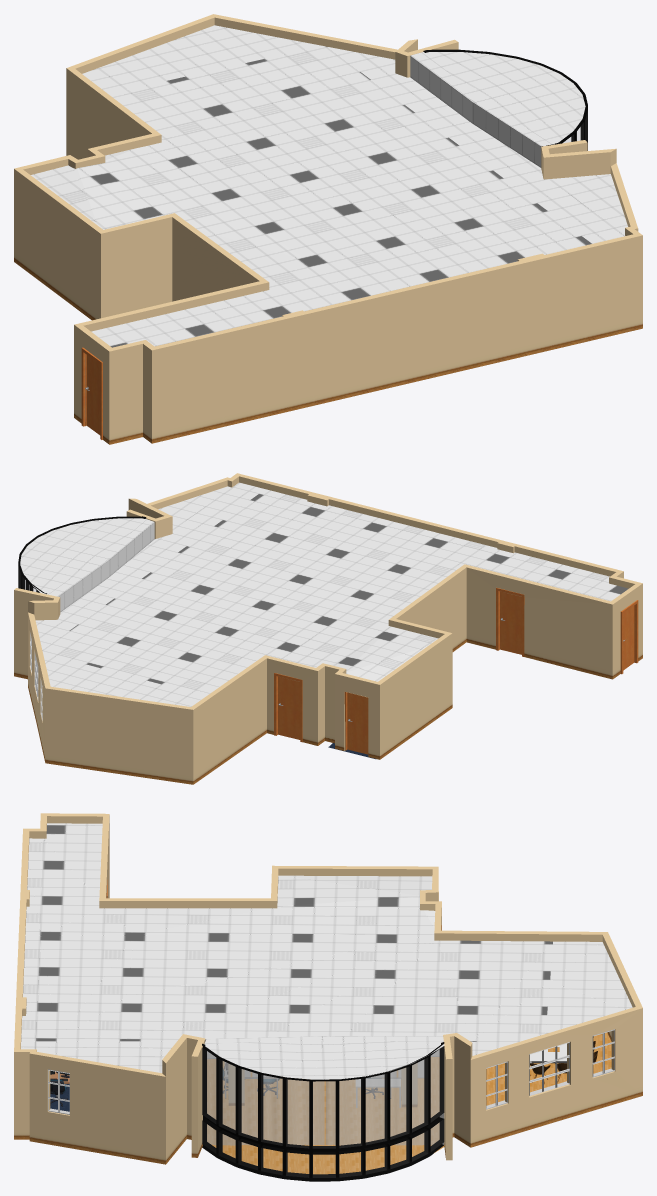
Rendered from int_mersus.glb.
3 renders of one model, top to bottom at view 1: azimuth 30°, elevation 25°; view 2: azimuth 150°, elevation 25°; view 3: azimuth 270°, elevation 25°, orthographic. The views are drawn at different scales.
Parts seen in each view (by area): view 1: Pillar.001_Walls_0, Floor.003_ceilingtiles_0, Floor.003_ceilingtiles_plain_0, Doors_Door_Solid_0, RoundWindowMetal.001_Metal_Black_0; view 2: Floor.003_ceilingtiles_0, Pillar.001_Walls_0, Floor.003_ceilingtiles_plain_0, Doors_Door_Solid_0, RoundWindowMetal.001_Metal_Black_0; view 3: Floor.003_ceilingtiles_0, Pillar.001_Walls_0, Floor.003_ceilingtiles_plain_0, Floor.002_woodFloor_0, curtain_low.001_Curtain_0, RoundWindowMetal.001_Metal_Black_0, Windows.001_SmallWindow_0.
Part boxes in pixels (x1,y1,x2,y2): Pillar.001_Walls_0: (14,14,642,444); Floor.003_ceilingtiles_0: (31,46,591,347); Floor.003_ceilingtiles_plain_0: (82,25,627,243); Doors_Door_Solid_0: (81,347,102,439); RoundWindowMetal.001_Metal_Black_0: (423,49,587,150); Floor.003_ceilingtiles_0: (42,489,628,696); Pillar.001_Walls_0: (14,473,642,784); Floor.003_ceilingtiles_plain_0: (20,482,264,706); Doors_Door_Solid_0: (274,587,638,754); RoundWindowMetal.001_Metal_Black_0: (18,516,146,593); Floor.003_ceilingtiles_0: (21,823,552,1042); Pillar.001_Walls_0: (14,813,642,1164); Floor.003_ceilingtiles_plain_0: (21,941,632,1079); Floor.002_woodFloor_0: (207,1032,611,1174); curtain_low.001_Curtain_0: (207,1053,444,1145); RoundWindowMetal.001_Metal_Black_0: (202,1042,444,1181); Windows.001_SmallWindow_0: (48,1029,614,1114).
Bounding box in the file's own units: 20.41 × 3.49 × 19.32.
Materials: 19 (16 with a texture image).
